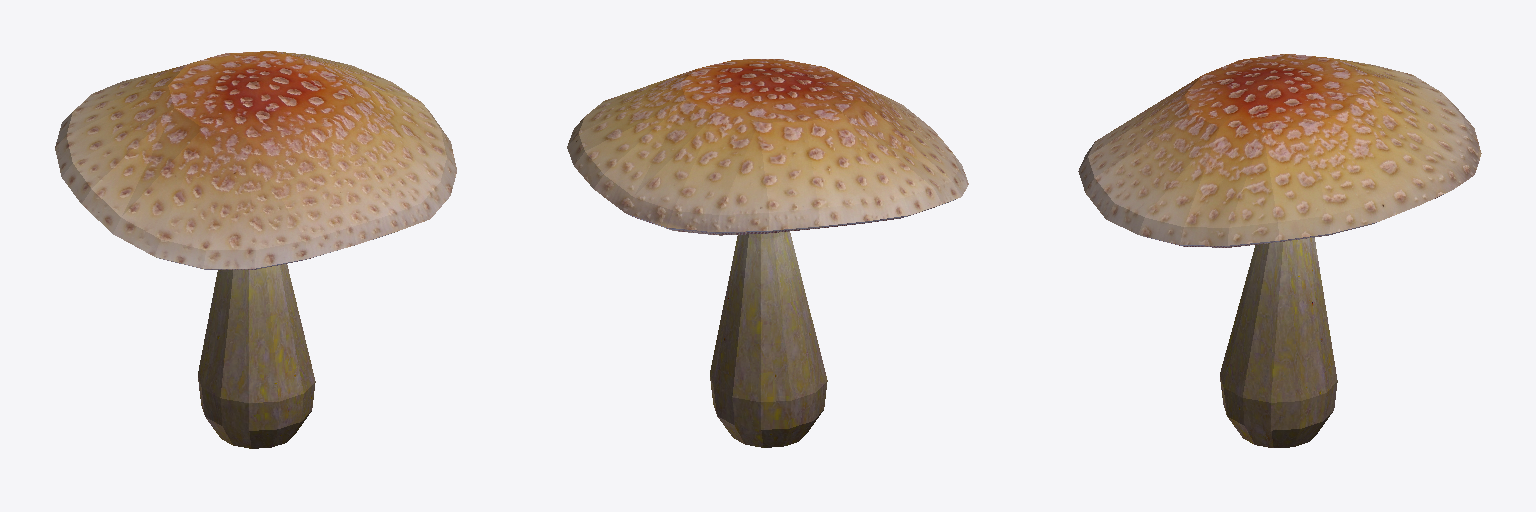
3 renders of one model, left to right at view 1: azimuth 30°, elevation 25°; view 2: azimuth 150°, elevation 25°; view 3: azimuth 270°, elevation 25°, orthographic.
Visible parts, largest first — view 1: meshlamellaA; view 2: meshlamellaA; view 3: meshlamellaA.
Boxes of the visible parts, x1,y1,x2,y2 form: meshlamellaA: [55, 51, 456, 448]; meshlamellaA: [567, 59, 968, 447]; meshlamellaA: [1078, 54, 1481, 447].
Bounding box in the file's own units: 6.71 × 6.48 × 6.72.
1 materials, 1 textured.